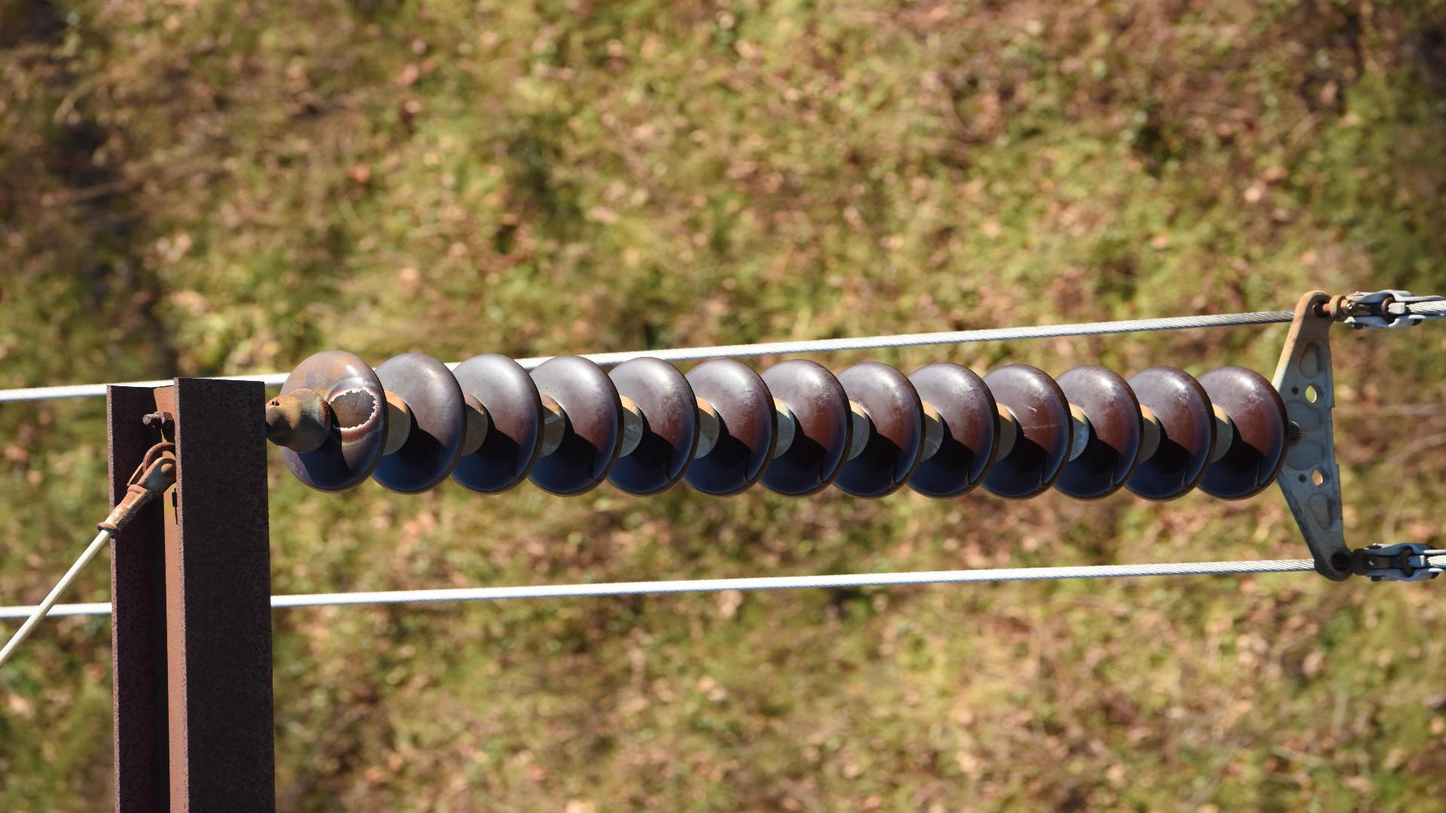insulator: (268, 343, 1294, 505)
insulator_flashover: (327, 385, 381, 432)
